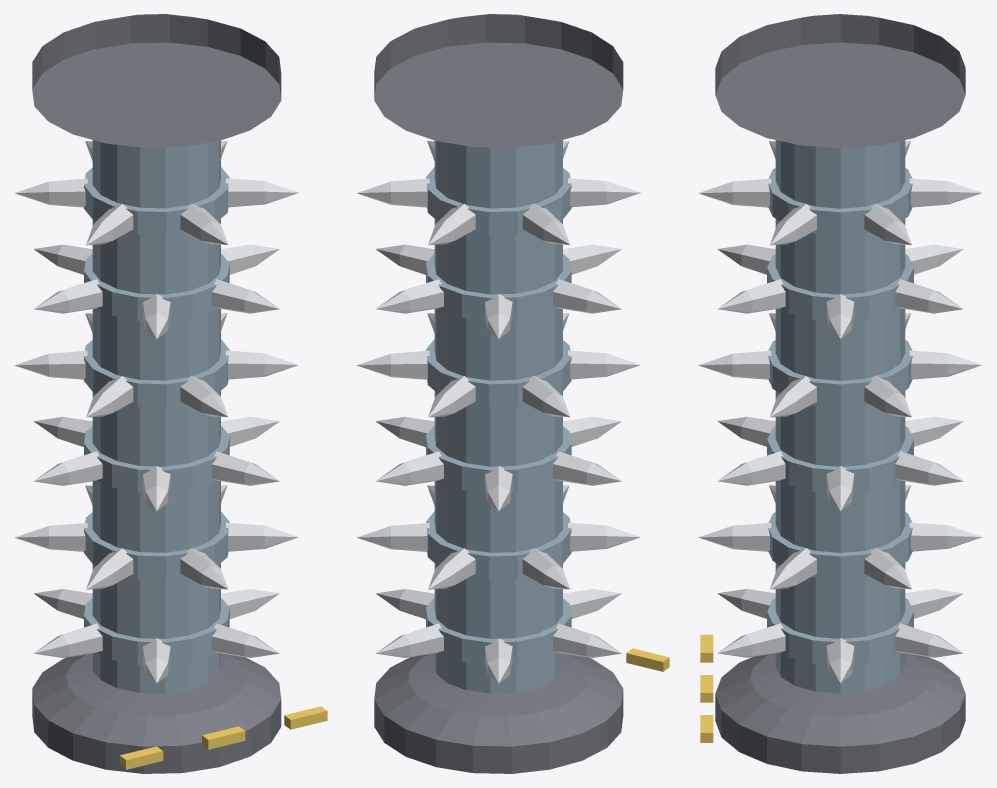
The model's file is animated-mechanisms-kit-rotating-spike-column-40d8db1b__24660.glb.
3 views of the same model, side by side, from view 1: azimuth 30°, elevation 25°; view 2: azimuth 150°, elevation 25°; view 3: azimuth 270°, elevation 25° (orthographic).
Visible parts, largest first — view 1: column/paint, rotating-spike-column, column/steel; view 2: column/paint, rotating-spike-column, column/steel; view 3: column/paint, rotating-spike-column, column/steel.
Boxes of the visible parts, x1,y1,x2,y2 form: column/paint: [84, 140, 229, 693]; rotating-spike-column: [32, 14, 327, 773]; column/steel: [14, 140, 298, 683]; column/paint: [426, 140, 571, 693]; rotating-spike-column: [374, 14, 669, 773]; column/steel: [356, 140, 640, 683]; column/paint: [767, 140, 913, 693]; rotating-spike-column: [700, 14, 965, 773]; column/steel: [698, 141, 982, 683].
Bounding box in the file's own units: 1.32 × 3.48 × 1.32.
